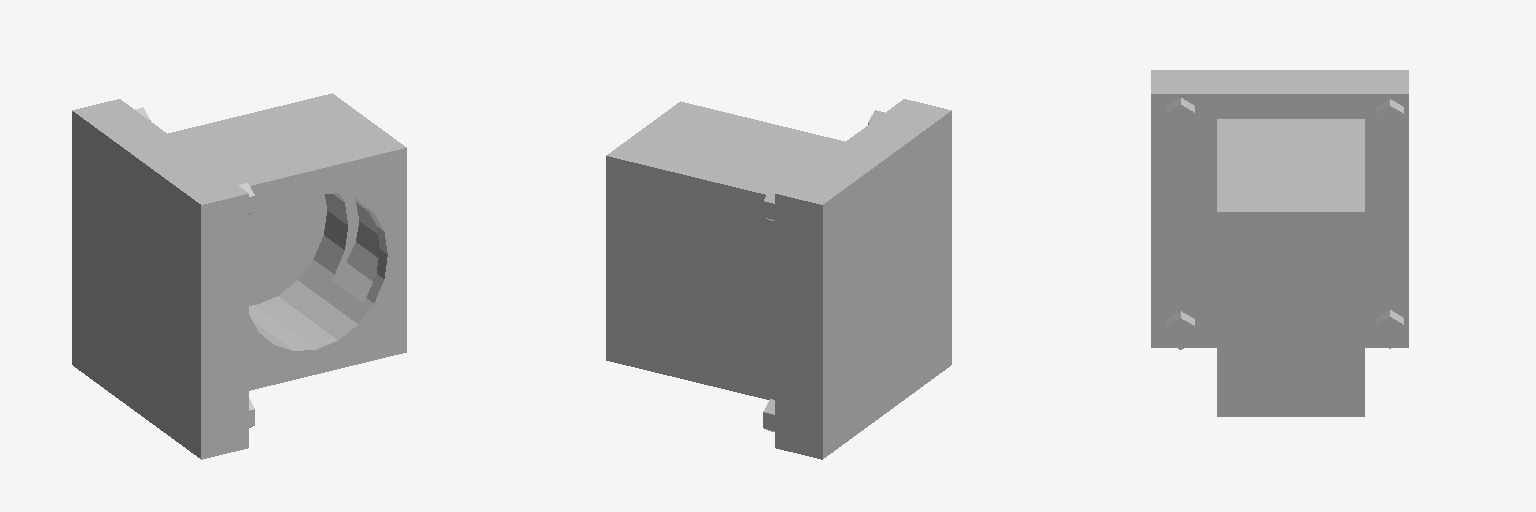
File: camara.obj
3 views of the same model, side by side, from view 1: azimuth 30°, elevation 25°; view 2: azimuth 150°, elevation 25°; view 3: azimuth 270°, elevation 25° (orthographic).
Parts seen in each view (by area): view 1: obj_0; view 2: obj_0; view 3: obj_0.
Part boxes in pixels (left/top/right/bottom): obj_0: left=72, top=93, right=406, bottom=459; obj_0: left=606, top=99, right=951, bottom=459; obj_0: left=1151, top=70, right=1408, bottom=416.
Bounding box in the file's own units: 50 × 51 × 47.